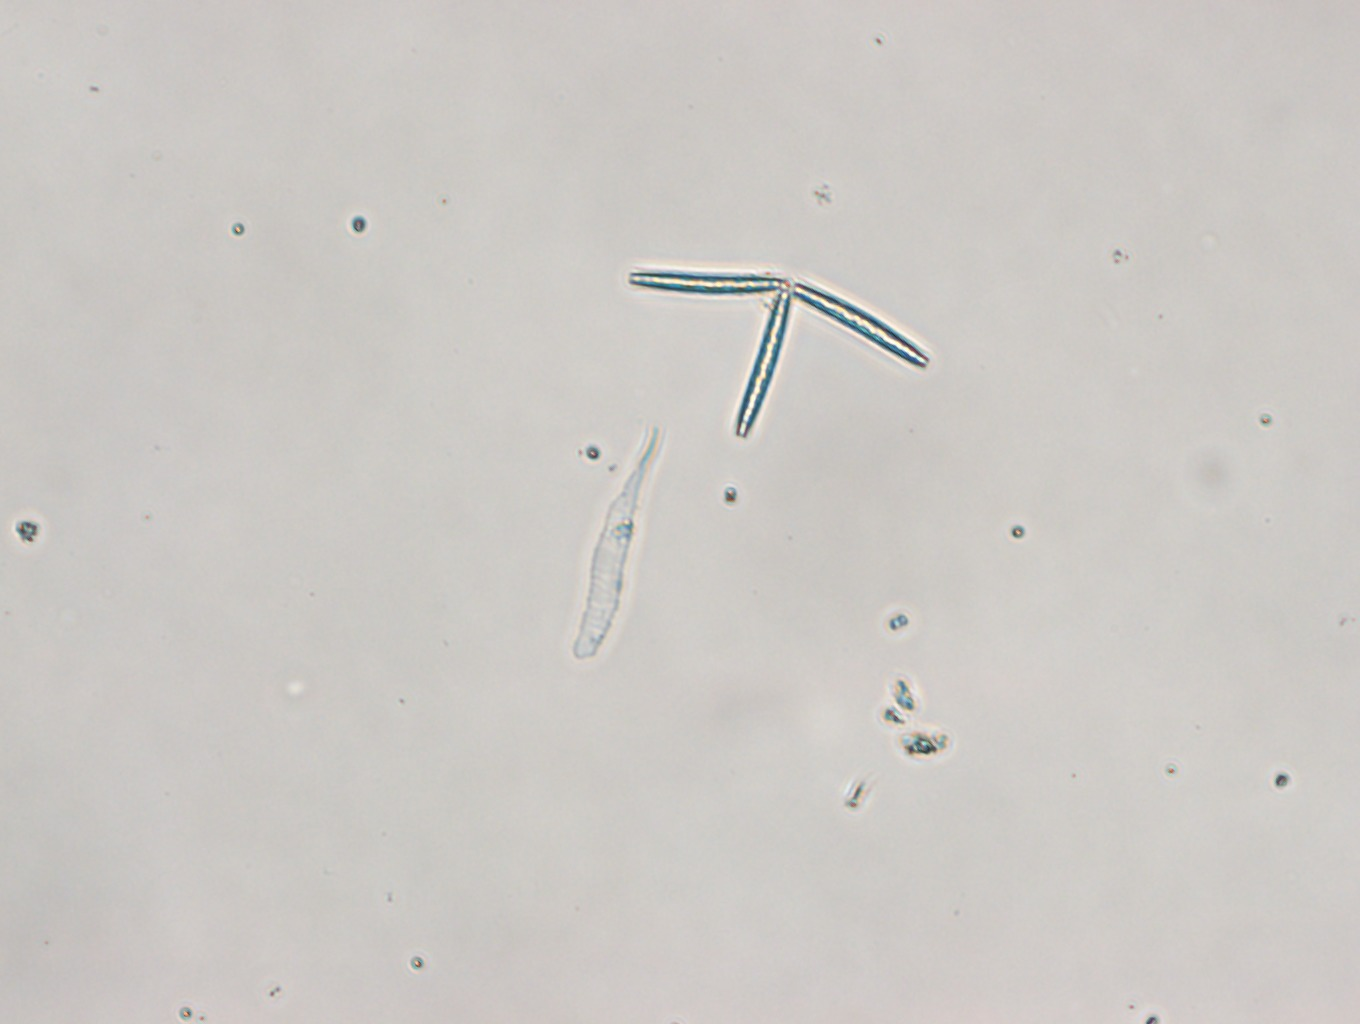thalassionema nitzschioides: (624, 269, 932, 441)
